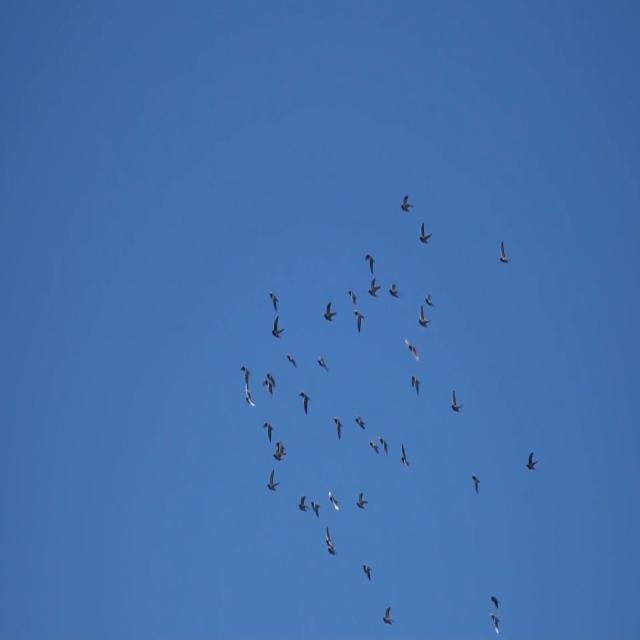bird: (404, 335, 420, 363), (269, 313, 284, 342), (321, 299, 337, 326), (415, 303, 430, 331), (264, 466, 280, 492), (418, 217, 432, 246), (450, 387, 464, 416), (365, 276, 381, 301), (298, 389, 312, 415), (379, 604, 394, 627), (498, 240, 511, 266), (376, 432, 389, 458), (332, 414, 344, 442), (260, 376, 274, 399), (525, 450, 539, 473), (322, 525, 336, 548), (399, 442, 410, 471), (240, 386, 253, 410), (240, 364, 252, 389), (327, 489, 340, 512), (356, 489, 369, 512), (400, 194, 413, 216), (345, 287, 359, 307), (409, 373, 421, 395), (354, 308, 364, 334), (297, 493, 308, 516), (368, 437, 380, 458), (364, 252, 377, 271), (316, 354, 329, 373), (262, 421, 274, 441), (276, 436, 288, 456), (471, 472, 481, 495), (489, 593, 501, 612), (310, 499, 322, 518), (490, 611, 499, 635), (285, 352, 297, 370), (265, 371, 279, 386), (389, 282, 399, 302), (362, 562, 372, 582), (268, 291, 279, 309), (354, 416, 366, 432), (424, 292, 435, 308), (324, 544, 335, 560), (270, 451, 282, 463)
